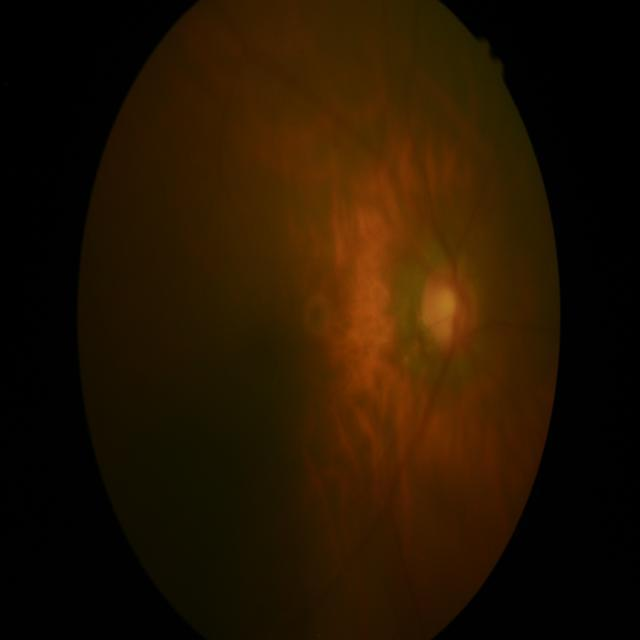cup: (432, 286, 457, 348)
disk: (422, 262, 482, 354)
